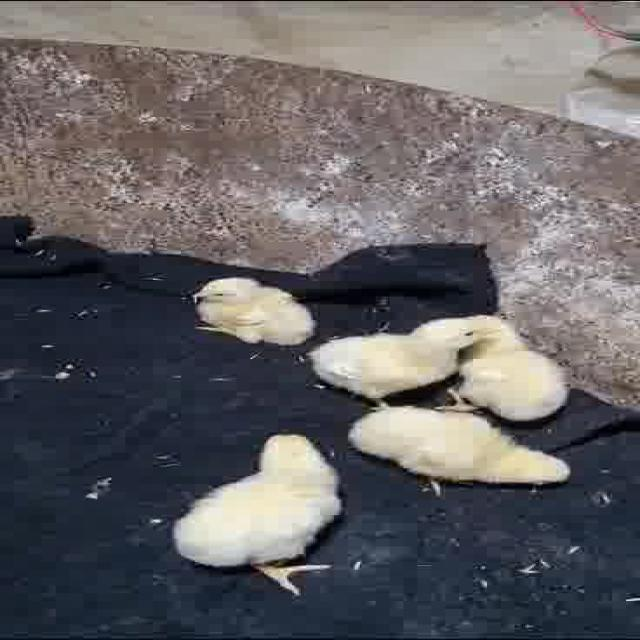poussin: (168, 428, 344, 595), (344, 406, 574, 494), (308, 309, 490, 396), (455, 315, 575, 420), (185, 275, 312, 345)
